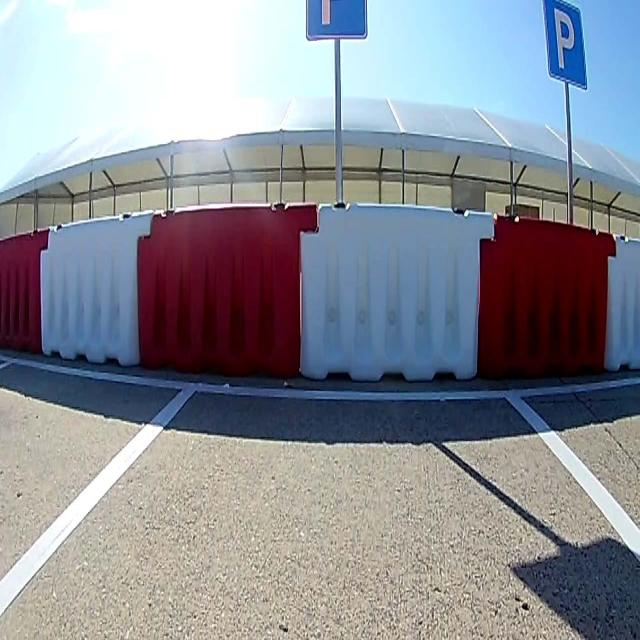park: (540, 1, 586, 87)
